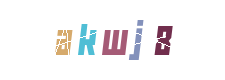8: (123, 0, 203, 80)
A: (36, 0, 116, 80)
J: (78, 0, 158, 80)
K: (67, 0, 147, 80)
W: (72, 0, 152, 80)
